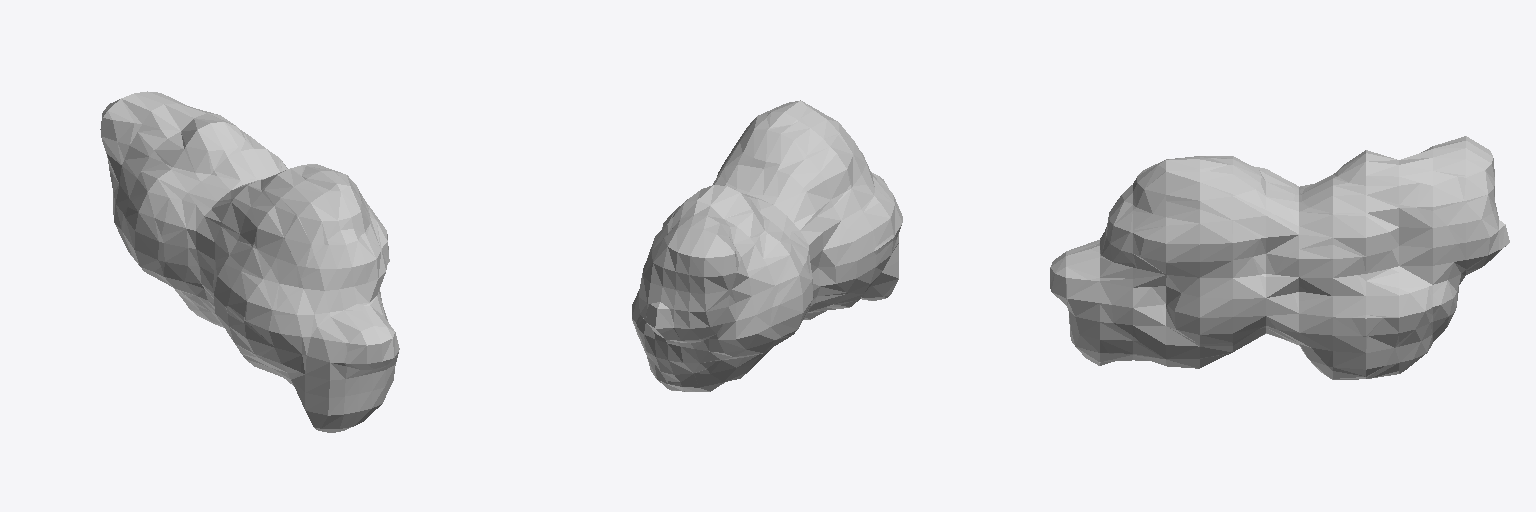
The model's file is 4r7b_cms.obj.
3 renders of one model, left to right at view 1: azimuth 30°, elevation 25°; view 2: azimuth 150°, elevation 25°; view 3: azimuth 270°, elevation 25°, orthographic.
Size of the model in its own units: 48.68 by 64.26 by 124.